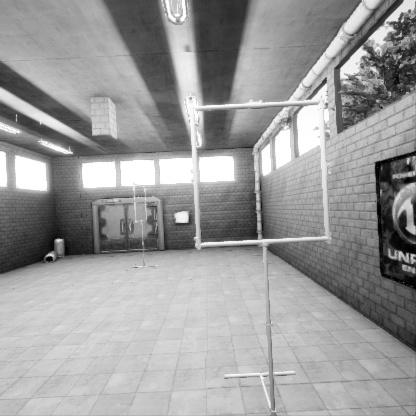gate: (193, 173, 344, 325), (133, 194, 147, 234)
